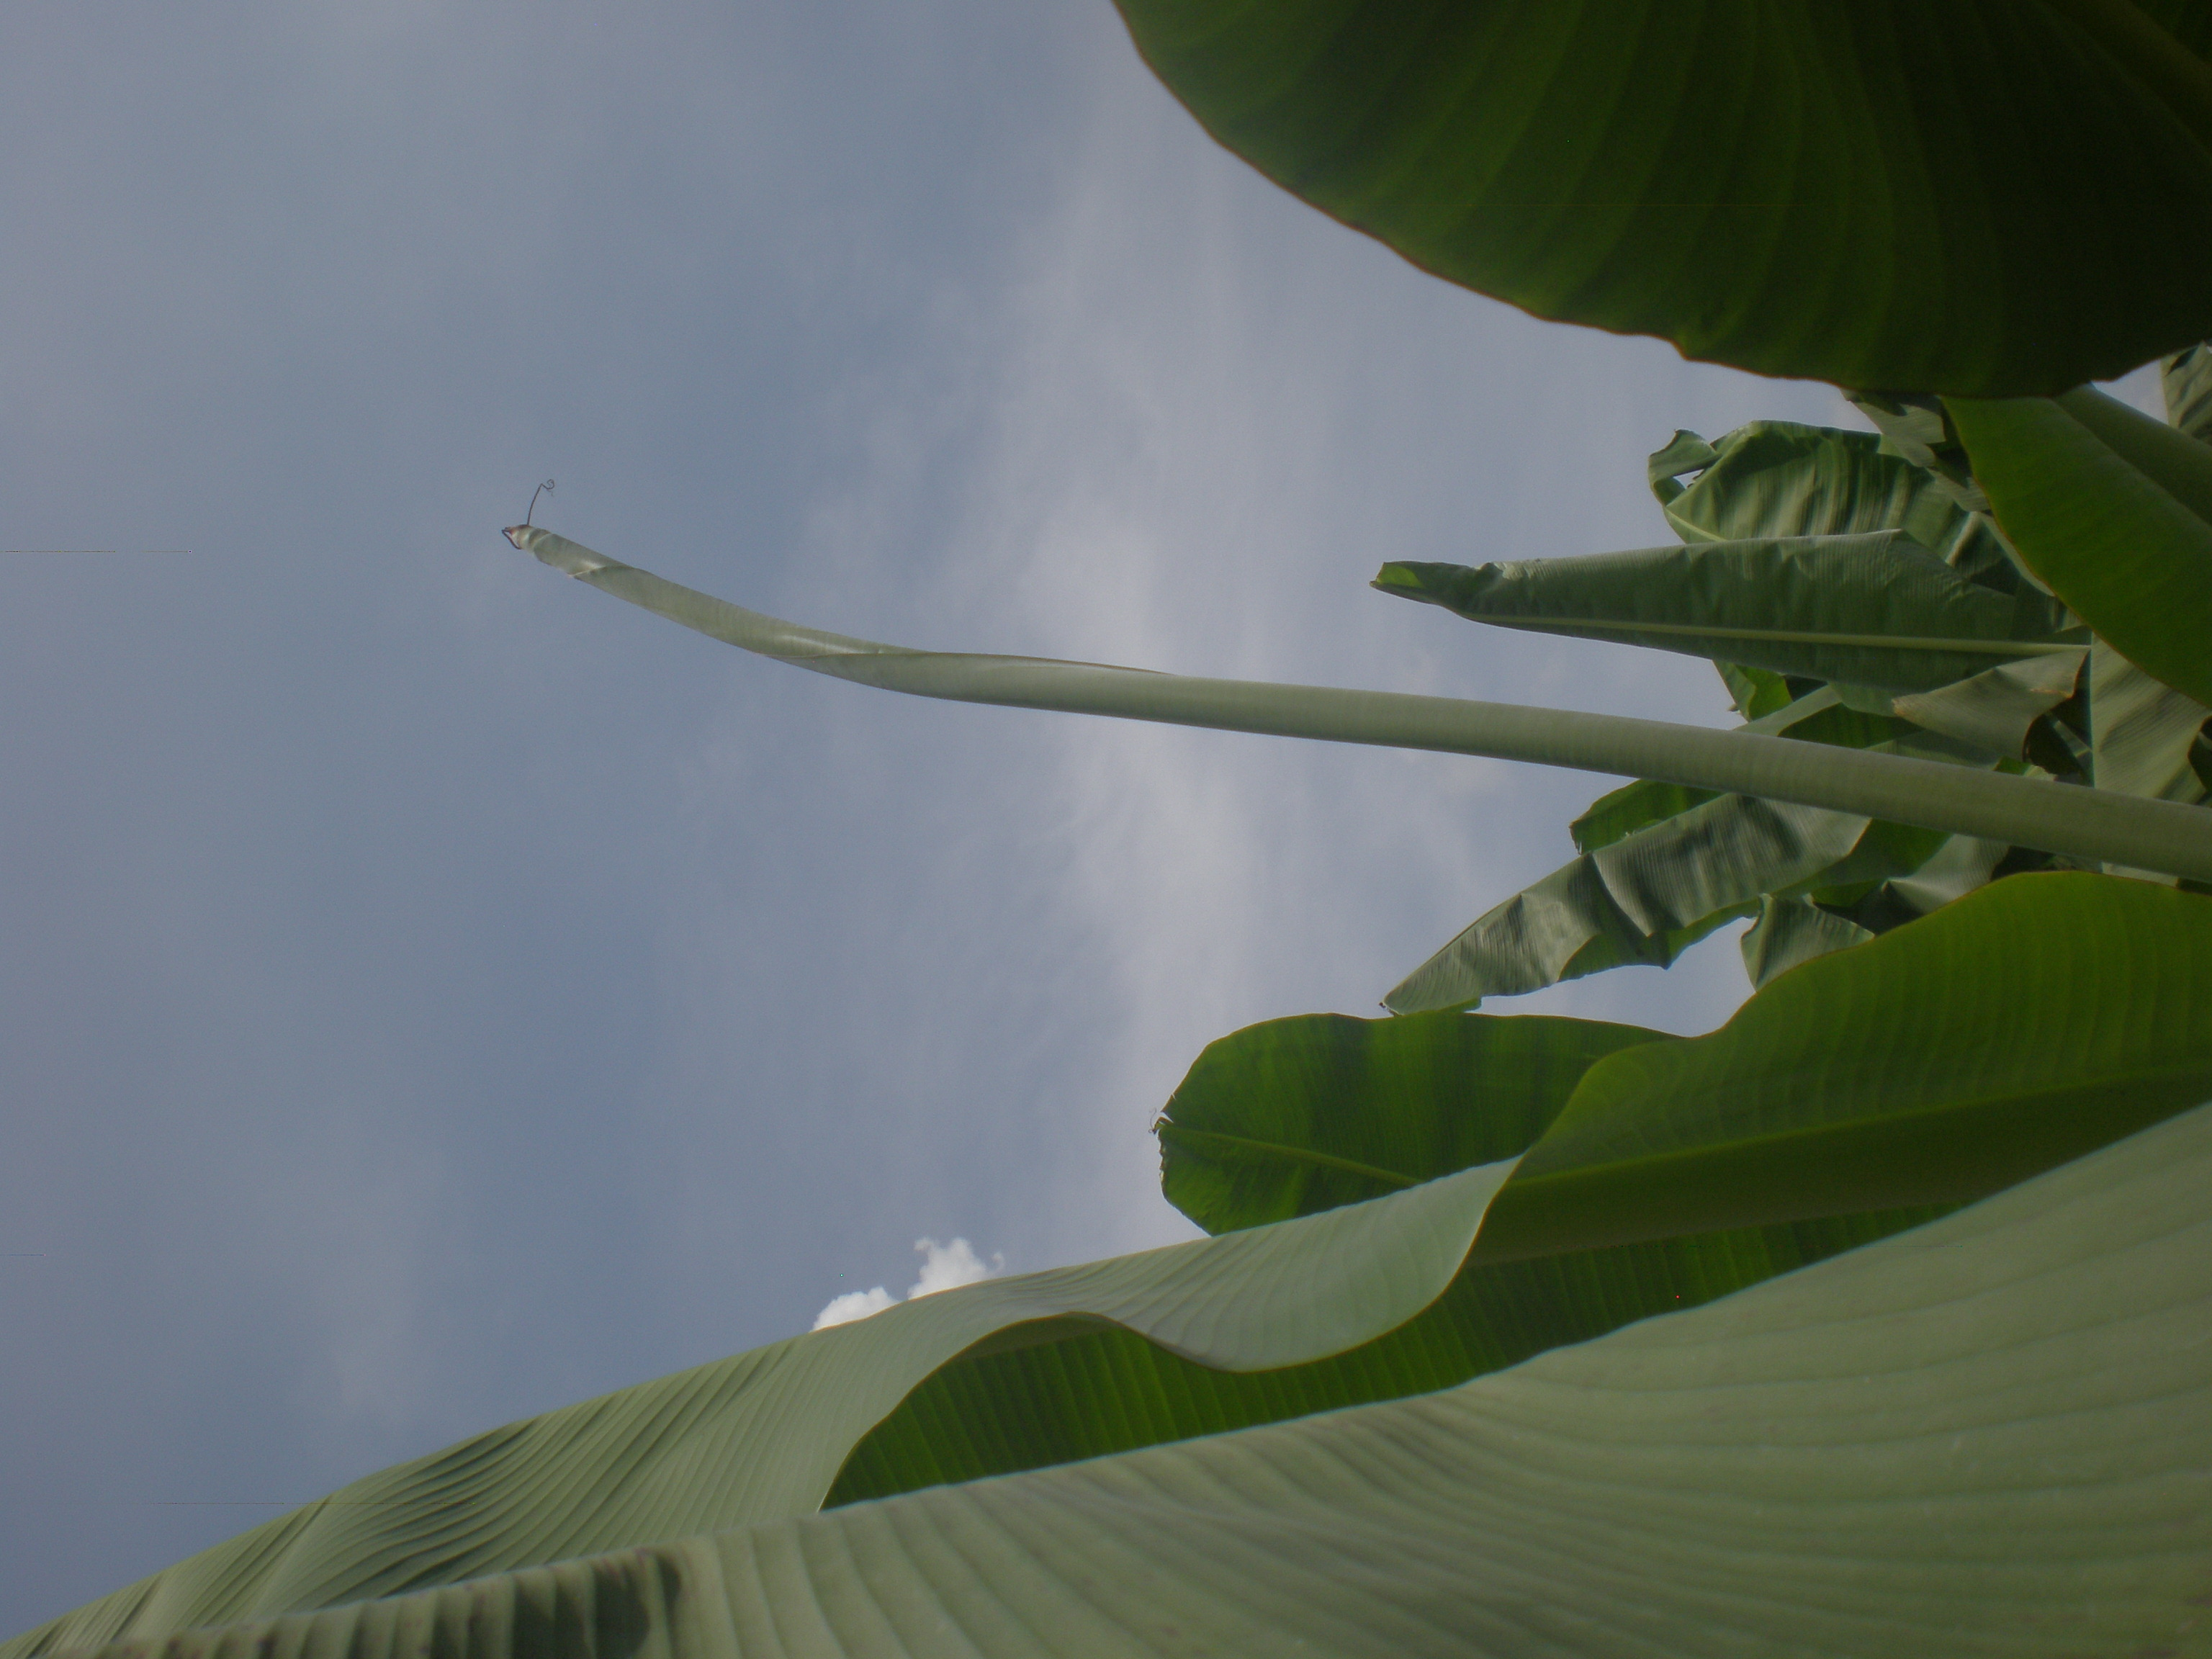candleleafs: (503, 514, 2212, 880)
